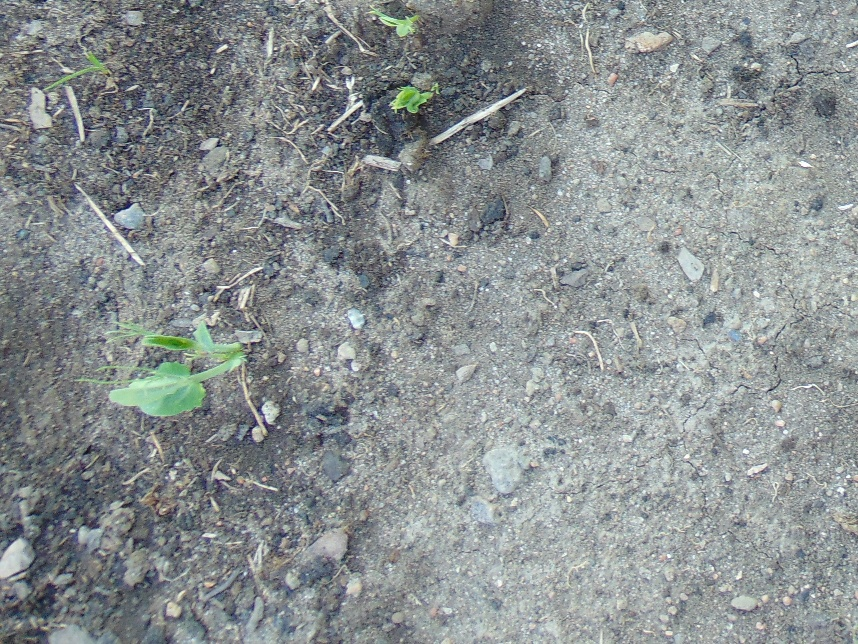crop: (99, 318, 253, 419), (391, 81, 437, 116), (373, 9, 419, 44)
weed: (73, 47, 119, 82)
